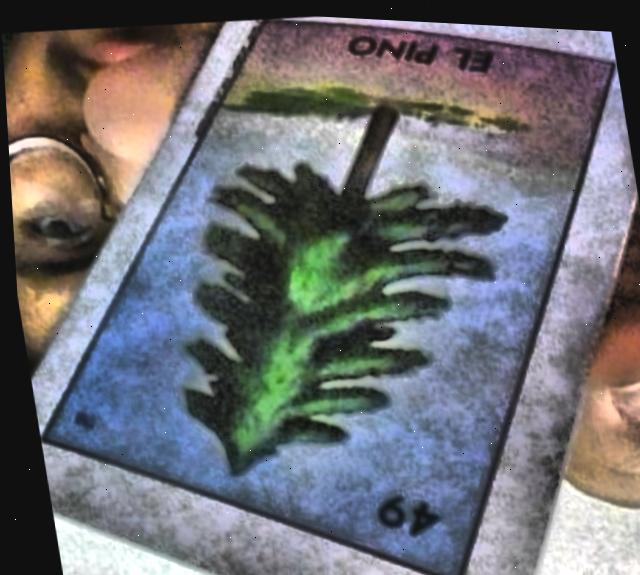El Pino: (37, 17, 610, 574)
